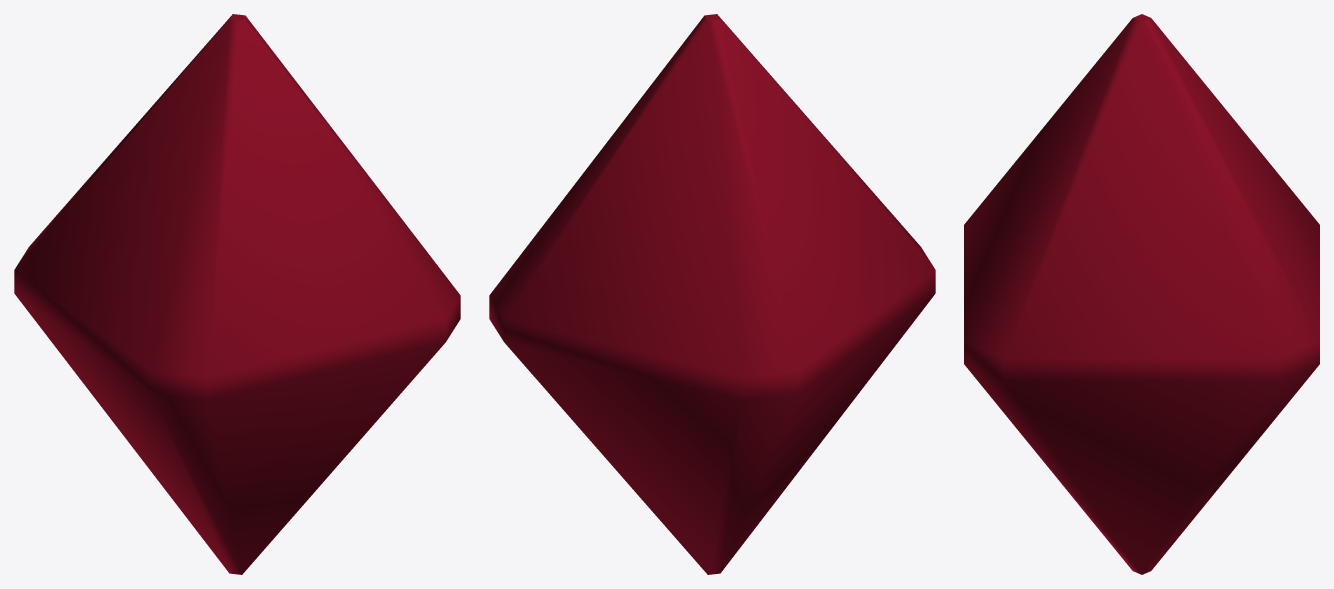
Rendered from gem-pink.obj.
3 renders of one model, left to right at view 1: azimuth 30°, elevation 25°; view 2: azimuth 150°, elevation 25°; view 3: azimuth 270°, elevation 25°, orthographic.
Visible parts, largest first — view 1: Gem_Pink_Cube.282; view 2: Gem_Pink_Cube.282; view 3: Gem_Pink_Cube.282.
Boxes of the visible parts, x1,y1,x2,y2 form: Gem_Pink_Cube.282: (14, 14, 460, 574); Gem_Pink_Cube.282: (489, 14, 935, 574); Gem_Pink_Cube.282: (964, 14, 1319, 574).
Size of the model in its own units: 1.13 by 1.94 by 1.13.
